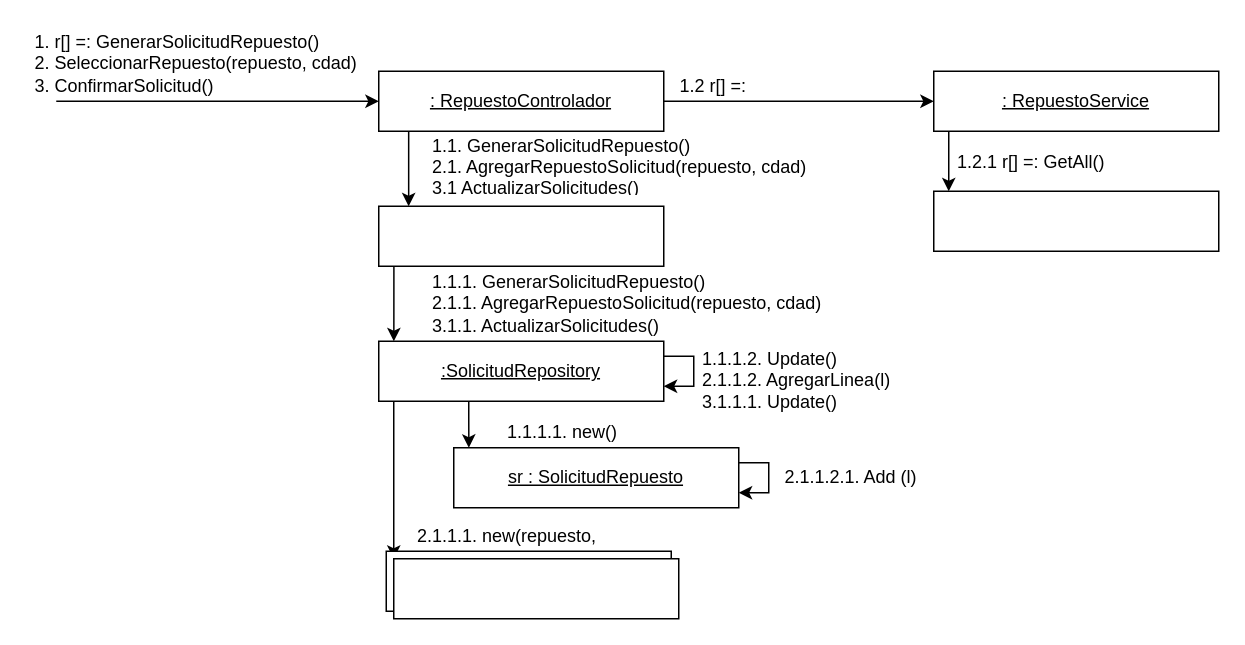
The diagram is 1245 pixels wide and 645 high, and some of its shapes have lost their labels. Here are the shapes that lost their labels. From the top down, the centre of each, then its label:
(520,235): :SolicitudService
(1075,220): : RepuestoRepository
(535,588): l : LineaSolicitudRepuesto
